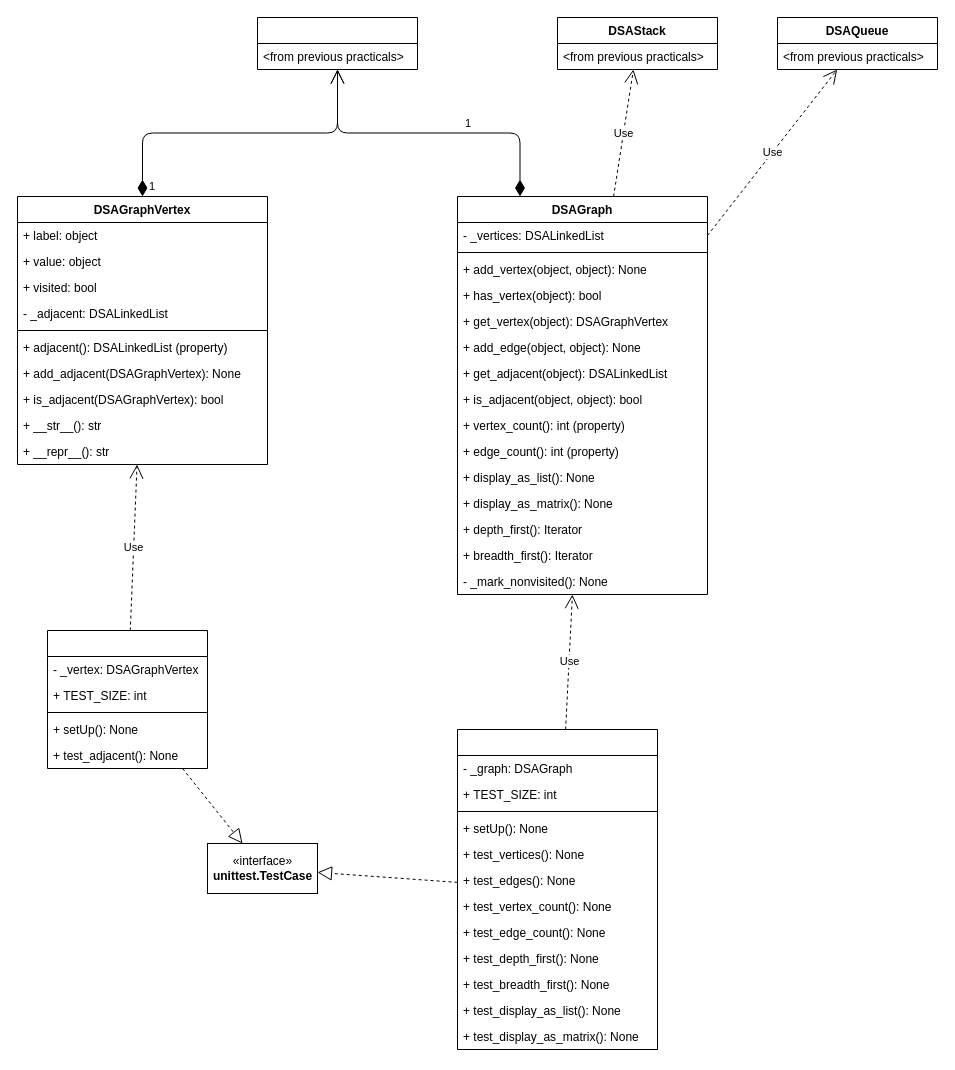
Some shapes in this 955 by 1070 pixel diagram are drawn without their labels. The box of each missing label's shape, as (x1, y1, x2, y2) in pixels:
DSAGraphTest: (456, 728, 658, 1050)
DSAGraphVertexTest: (46, 630, 208, 768)
DSALinkedList: (256, 16, 418, 70)
